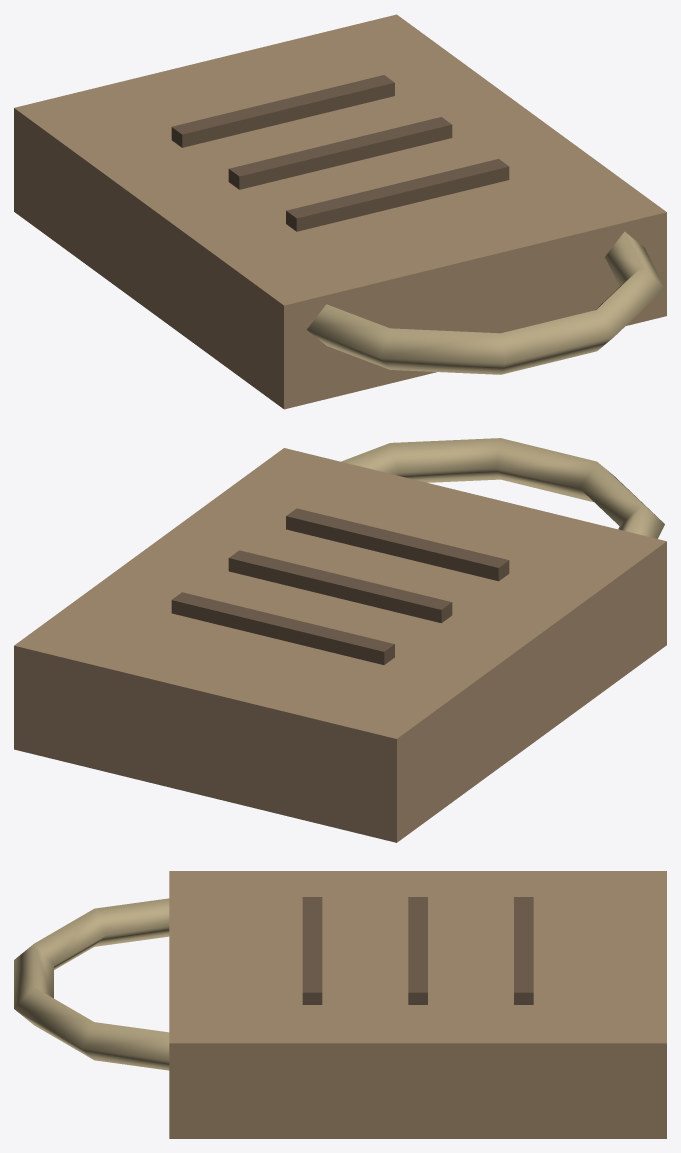
The model's file is spread-portable-crunchylocket.fbx.
3 views of the same model, one above another, from view 1: azimuth 30°, elevation 25°; view 2: azimuth 150°, elevation 25°; view 3: azimuth 270°, elevation 25° (orthographic). The views are drawn at different scales.
Parts seen in each view (by area): view 1: spread-portable-crunchylocket__Geometry; view 2: spread-portable-crunchylocket__Geometry; view 3: spread-portable-crunchylocket__Geometry.
Boxes of the visible parts, box(x1,y1,x2,y2) form: spread-portable-crunchylocket__Geometry: box(14, 14, 666, 409); spread-portable-crunchylocket__Geometry: box(14, 438, 666, 842); spread-portable-crunchylocket__Geometry: box(14, 871, 666, 1138).
Size of the model in its own units: 0.27 by 0.079 by 0.4329.
